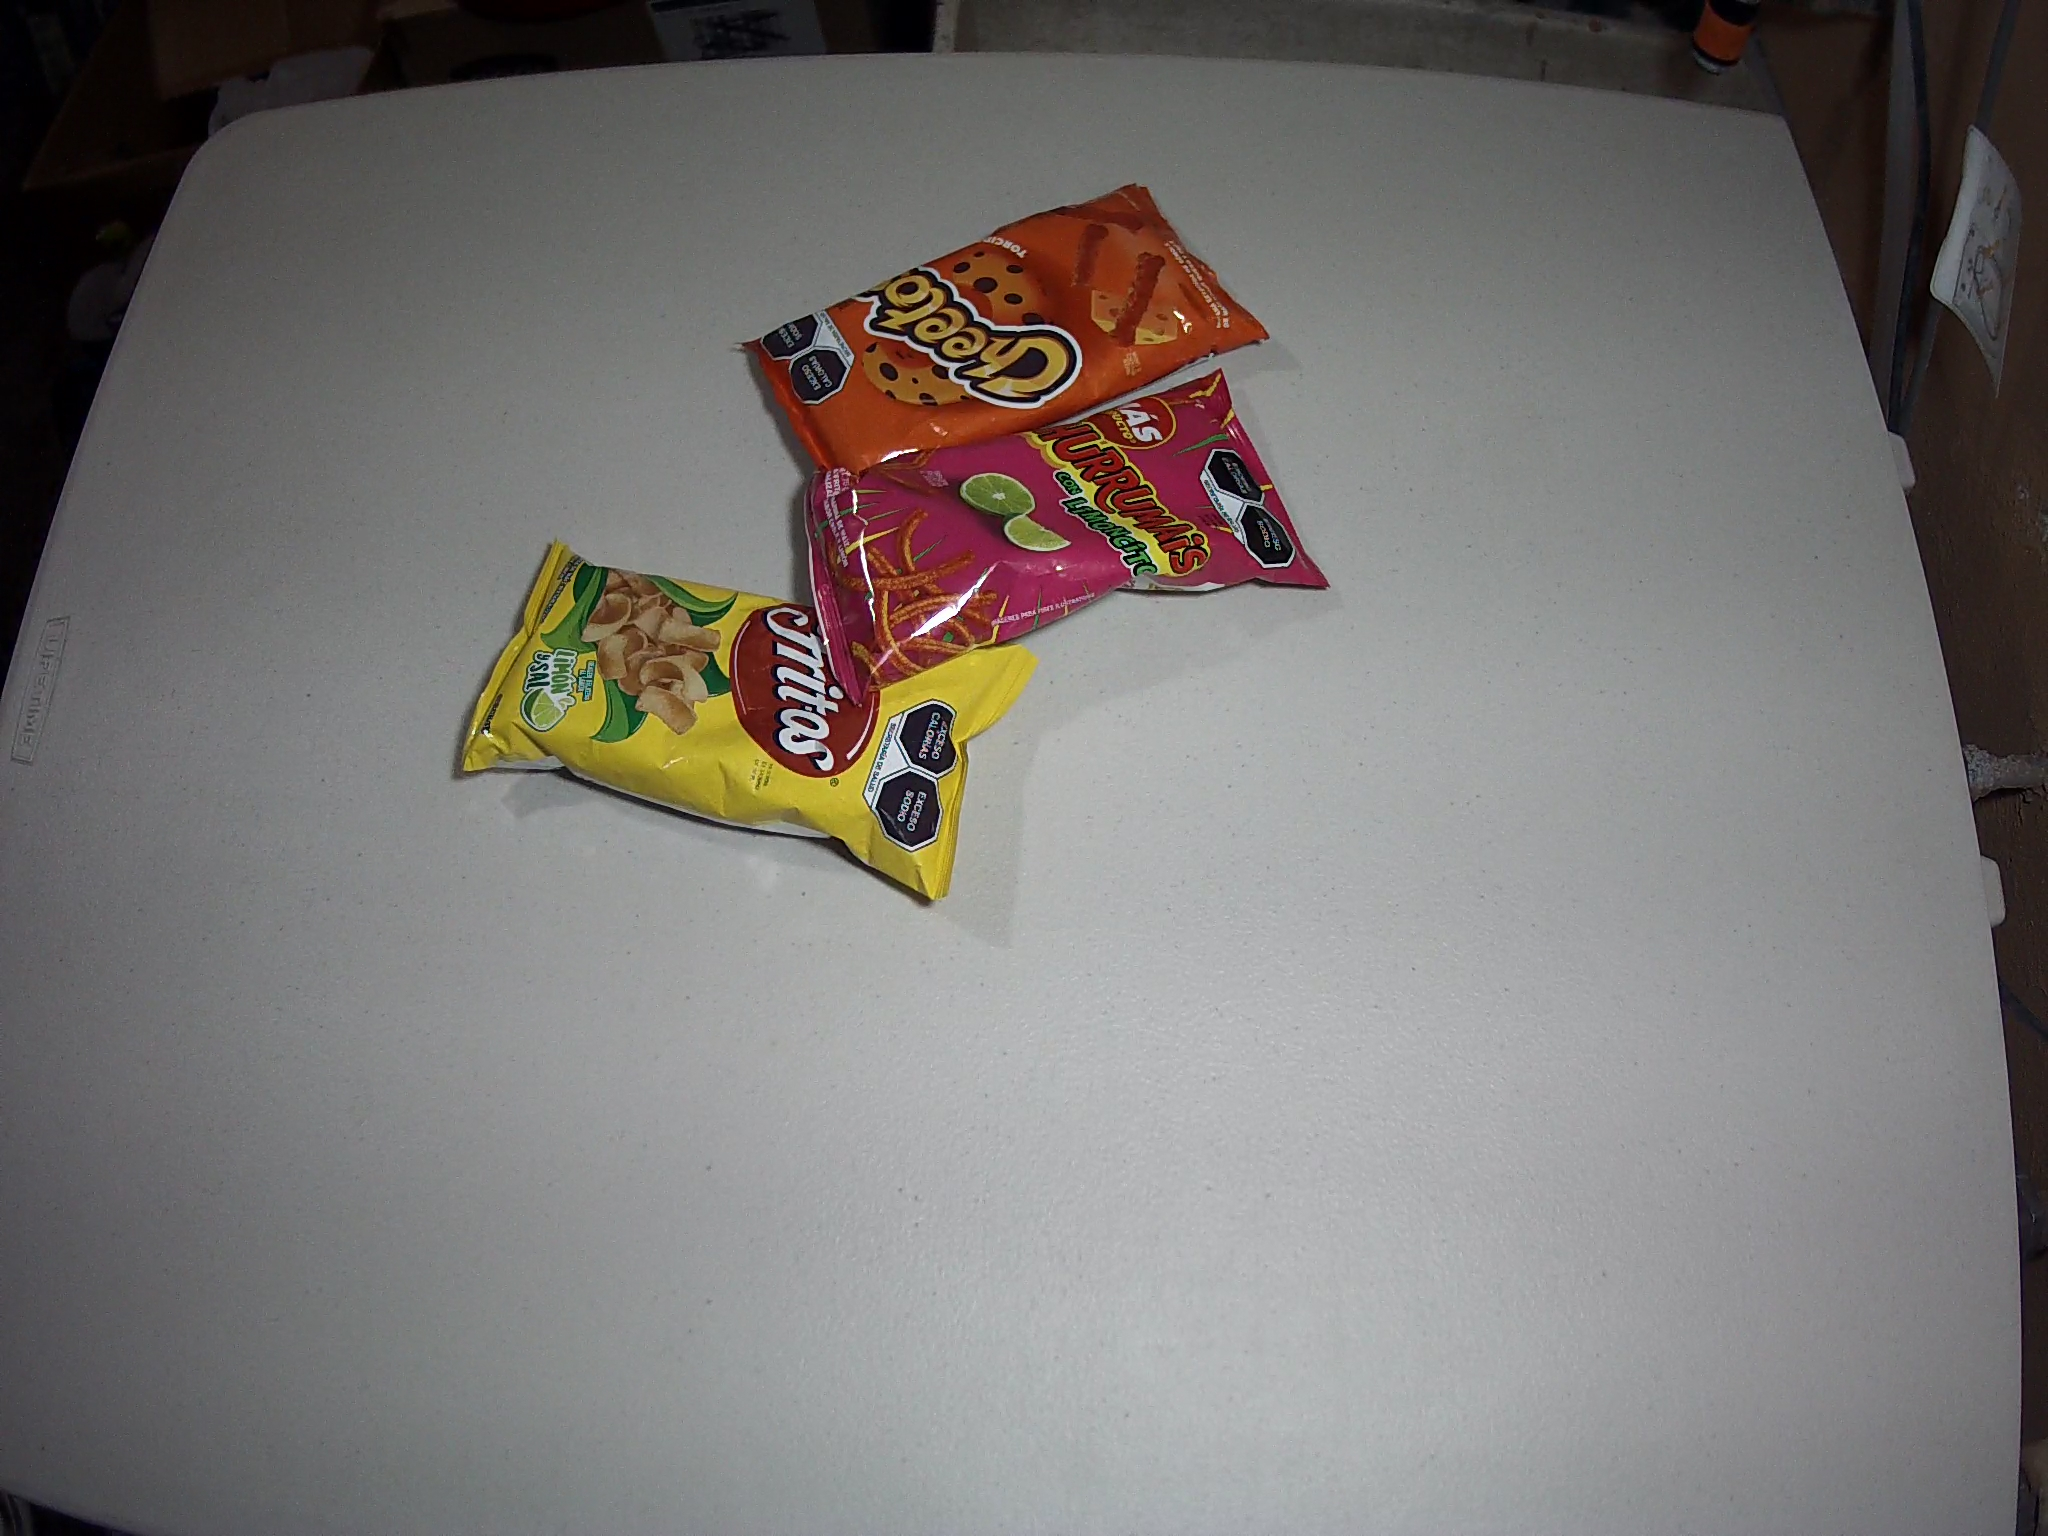CheetosTorciditos_55_F: (739, 184, 1272, 508)
Churrumais_70_F: (801, 369, 1342, 702)
FritosSalLimon_65_F: (456, 539, 1043, 904)
